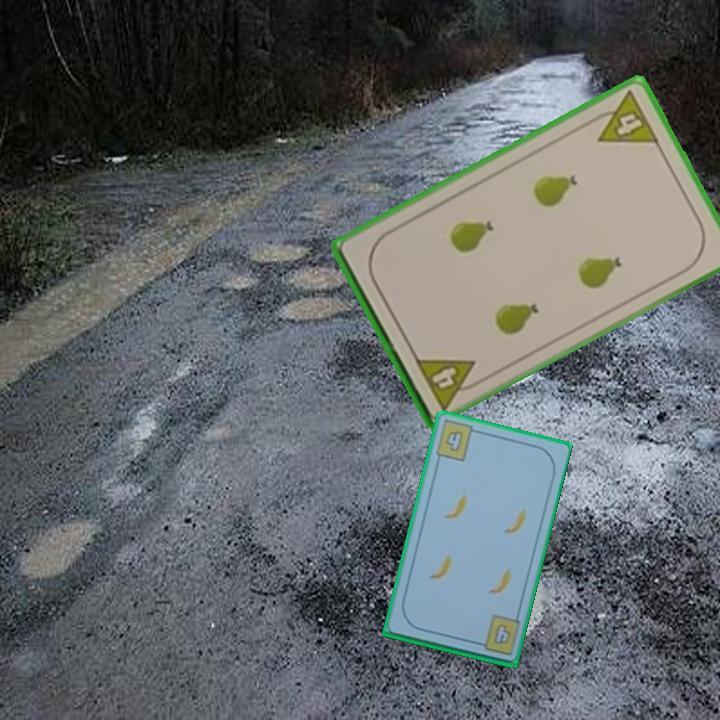4b: (432, 417, 482, 464), (489, 620, 513, 647)
4p: (585, 87, 662, 147), (411, 353, 486, 413)
